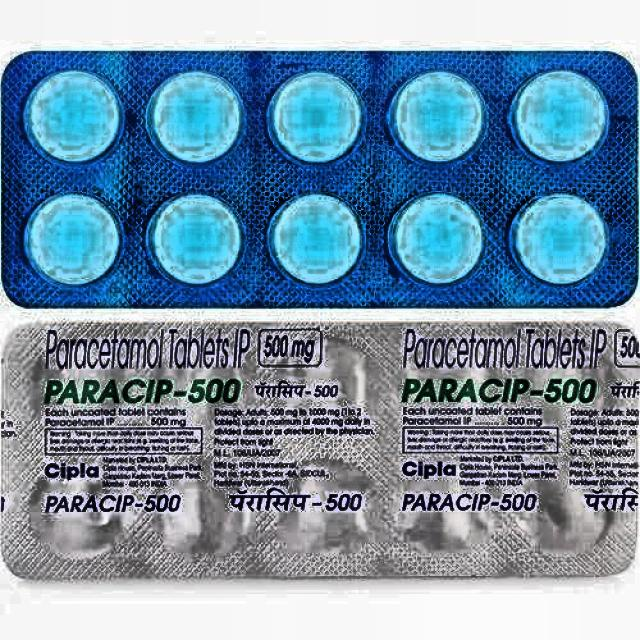Paracetamol: (19, 59, 627, 304), (32, 317, 265, 422)
